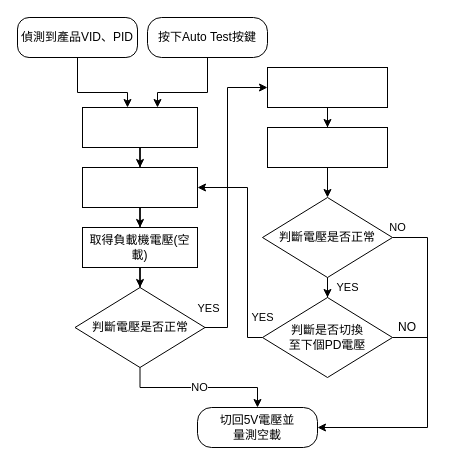
Some shapes in this 453 by 465 pixel diagram are drawn without their labels. Each missing label, with the centre of its shape:
"PD Board切換電壓" goes at [140,187].
"取得負載機電壓(滿載)" goes at [327,147].
"測試開始" goes at [140,127].
"負載機設定至 滿載電流" goes at [327,87].
